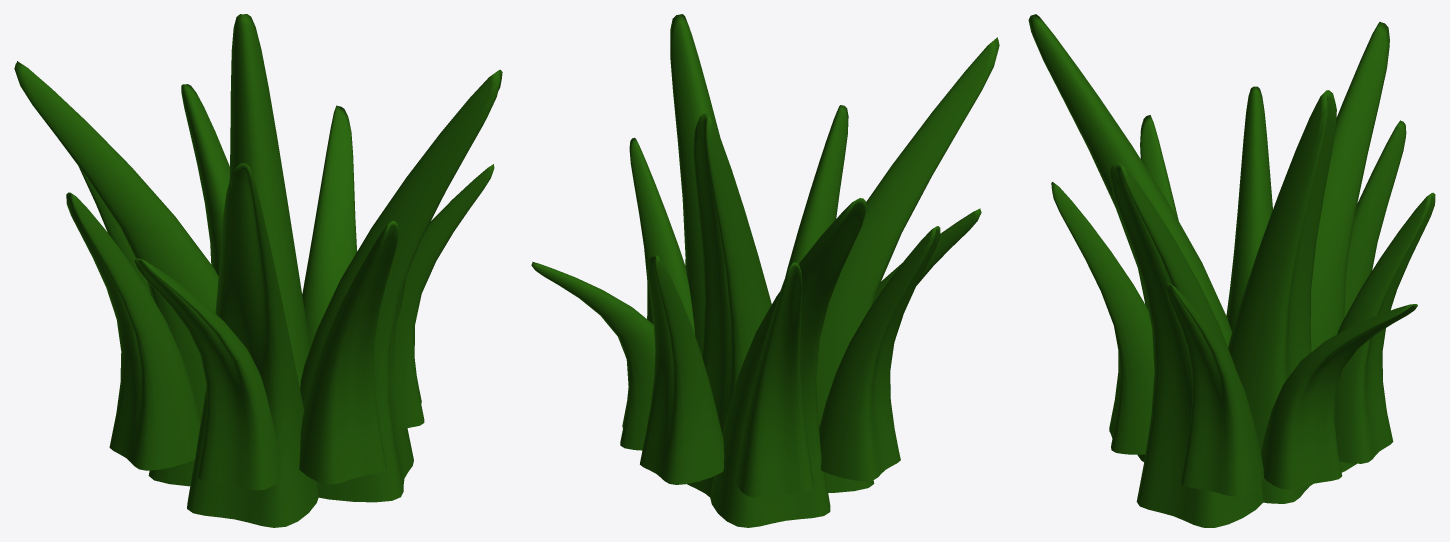
File: pastito.fbx
The picture shows the model from 3 angles, left to right: view 1: azimuth 30°, elevation 25°; view 2: azimuth 150°, elevation 25°; view 3: azimuth 270°, elevation 25°; orthographic projection. The views are drawn at different scales.
Parts seen in each view (by area): view 1: Cube.008; view 2: Cube.008; view 3: Cube.008.
Boxes of the visible parts, x1=… form: Cube.008: x1=14, y1=14, x2=502, y2=527; Cube.008: x1=531, y1=14, x2=999, y2=527; Cube.008: x1=1028, y1=14, x2=1435, y2=527.
Bounding box in the file's own units: 75.24 × 80.96 × 75.52.
